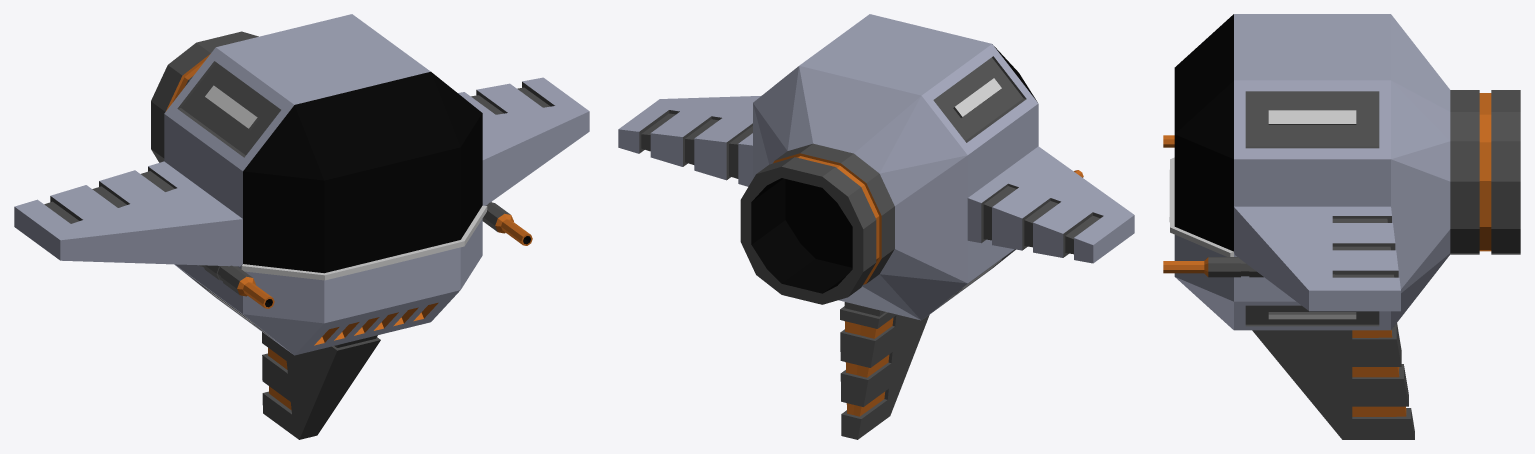
File: Spaceship1_4.fbx
3 renders of one model, left to right at view 1: azimuth 30°, elevation 25°; view 2: azimuth 150°, elevation 25°; view 3: azimuth 270°, elevation 25°, orthographic. The views are drawn at different scales.
Parts seen in each view (by area): view 1: Spaceship1_4; view 2: Spaceship1_4; view 3: Spaceship1_4.
Boxes of the visible parts, box(x1,y1,x2,y2) form: Spaceship1_4: box(14, 14, 589, 439); Spaceship1_4: box(618, 14, 1134, 439); Spaceship1_4: box(1163, 14, 1520, 439).
Size of the model in its own units: 442 by 311 by 259.
